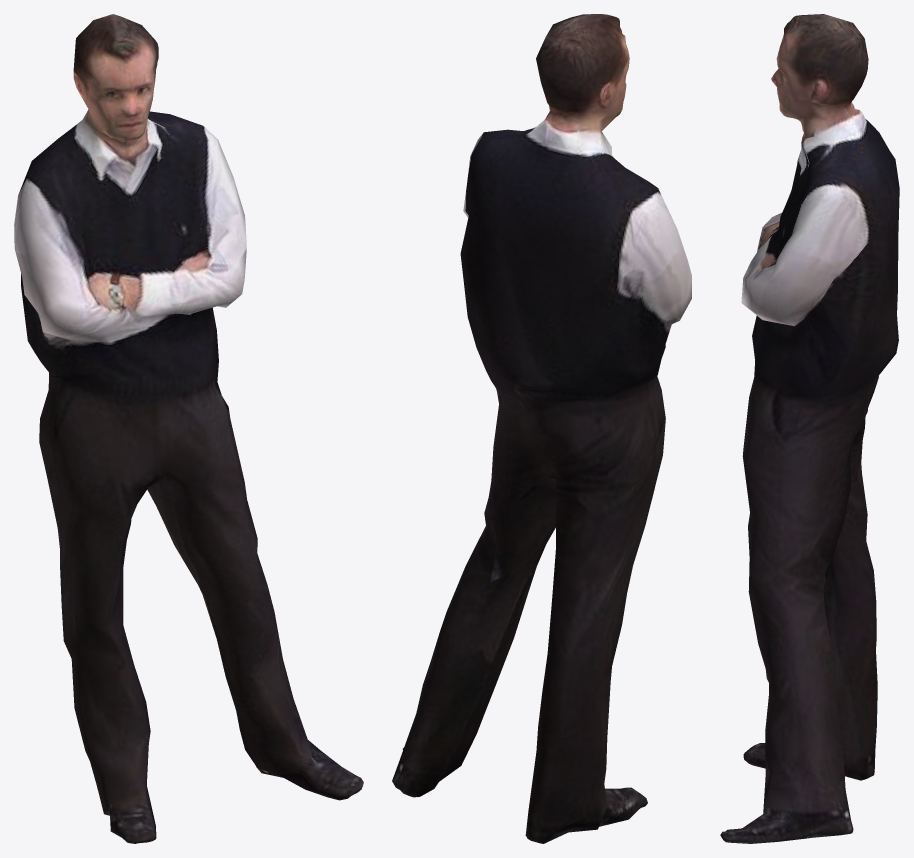
Rendered from casual5.obj.
3 views of the same model, side by side, from view 1: azimuth 30°, elevation 25°; view 2: azimuth 150°, elevation 25°; view 3: azimuth 270°, elevation 25° (orthographic). The views are drawn at different scales.
Visible parts, largest first — view 1: lwpg0048; view 2: lwpg0048; view 3: lwpg0048.
Part boxes in pixels (left/top/right/bottom): lwpg0048: left=14, top=14, right=363, bottom=843; lwpg0048: left=392, top=14, right=691, bottom=843; lwpg0048: left=720, top=14, right=899, bottom=843.
Size of the model in its own units: 0.7117 by 1.88 by 0.4084.
1 material, 1 textured.
